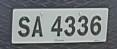3: (63, 15, 78, 39), (76, 15, 90, 38)
4: (49, 13, 64, 41)
6: (89, 13, 103, 39)
A: (31, 14, 44, 41)
S: (16, 15, 32, 41)
